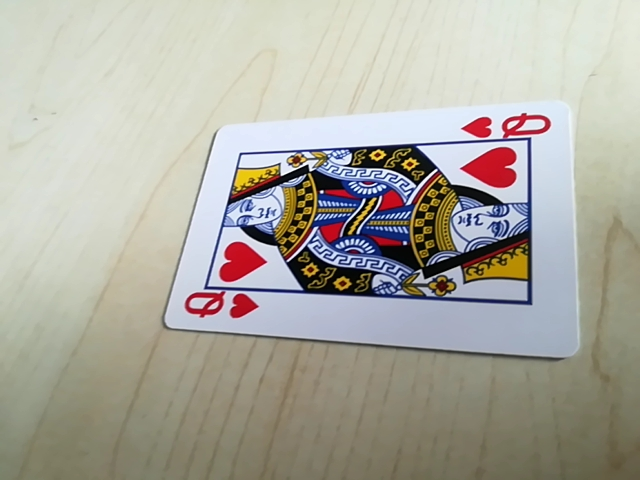hx q: (460, 109, 554, 144), (182, 288, 262, 327)
